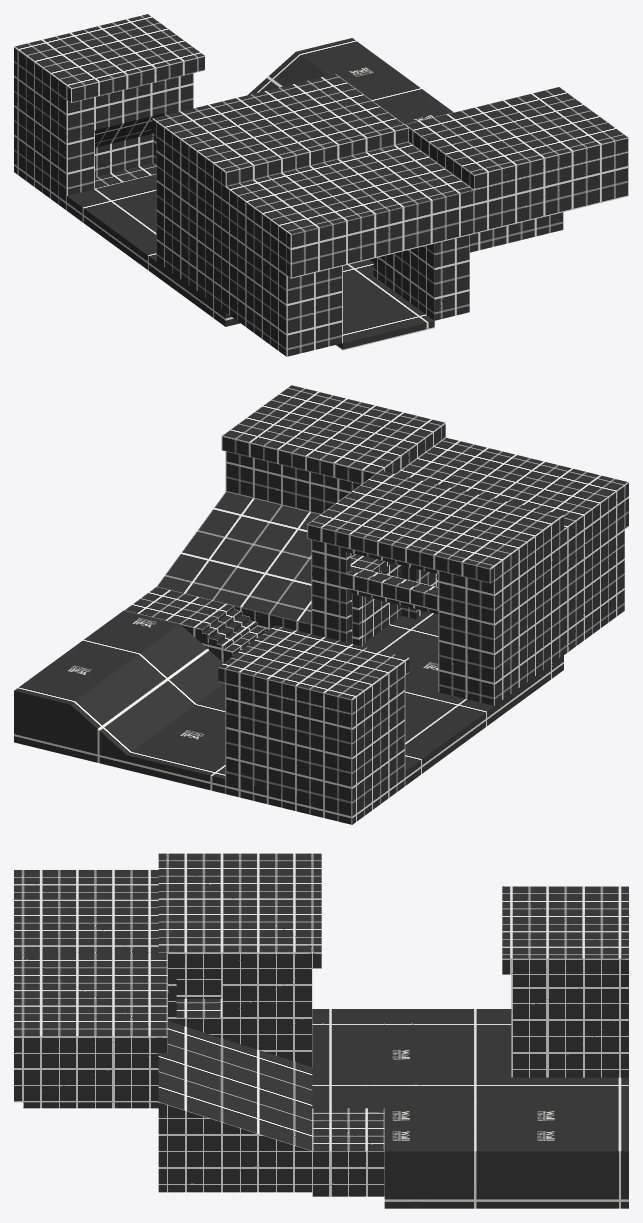
File: dev.obj
3 views of the same model, one above another, from view 1: azimuth 30°, elevation 25°; view 2: azimuth 150°, elevation 25°; view 3: azimuth 270°, elevation 25° (orthographic). The views are drawn at different scales.
Visible parts, largest first — view 1: entity0_brush21, entity0_brush19, entity0_brush23, entity0_brush16, entity0_brush25, entity0_brush30, entity0_brush22, entity0_brush38, entity0_brush24, entity0_brush40, entity0_brush3, entity0_brush26 (+9 smaller); view 2: entity0_brush19, entity0_brush20, entity0_brush23, entity0_brush21, entity0_brush2, entity0_brush16, entity0_brush3, entity0_brush30, entity0_brush29, entity0_brush38, entity0_brush1, entity0_brush40 (+15 smaller); view 3: entity0_brush20, entity0_brush3, entity0_brush19, entity0_brush23, entity0_brush21, entity0_brush16, entity0_brush1, entity0_brush0, entity0_brush39, entity0_brush17, entity0_brush22, entity0_brush15 (+5 smaller).
Boxes of the visible parts, x1,y1,x2,y2 form: entity0_brush21: (225, 142, 473, 278); entity0_brush19: (152, 74, 408, 186); entity0_brush23: (405, 86, 628, 189); entity0_brush16: (14, 14, 204, 102); entity0_brush25: (225, 231, 342, 356); entity0_brush30: (160, 139, 225, 311); entity0_brush22: (474, 152, 628, 233); entity0_brush38: (14, 62, 193, 136); entity0_brush24: (373, 235, 469, 320); entity0_brush40: (14, 98, 94, 210); entity0_brush3: (296, 38, 453, 124); entity0_brush26: (336, 276, 434, 350); entity0_brush19: (307, 470, 563, 583); entity0_brush20: (156, 491, 319, 633); entity0_brush23: (221, 385, 445, 484); entity0_brush21: (396, 437, 628, 573); entity0_brush2: (70, 624, 224, 769); entity0_brush16: (218, 625, 409, 714); entity0_brush3: (14, 610, 179, 755); entity0_brush30: (498, 536, 563, 702); entity0_brush29: (438, 571, 498, 705); entity0_brush38: (225, 676, 405, 750); entity0_brush1: (126, 683, 225, 793); entity0_brush40: (324, 713, 405, 824); entity0_brush20: (158, 1021, 312, 1192); entity0_brush3: (384, 1121, 628, 1208); entity0_brush19: (158, 853, 321, 968); entity0_brush23: (14, 952, 167, 1052); entity0_brush21: (14, 869, 158, 952); entity0_brush16: (502, 886, 628, 974); entity0_brush1: (384, 1077, 628, 1120); entity0_brush0: (384, 1009, 511, 1077); entity0_brush39: (511, 1012, 628, 1077); entity0_brush17: (312, 1009, 384, 1108); entity0_brush22: (14, 1053, 158, 1102); entity0_brush15: (312, 1113, 384, 1196).
Bounding box in the file's own units: 768 × 336 × 1088.
